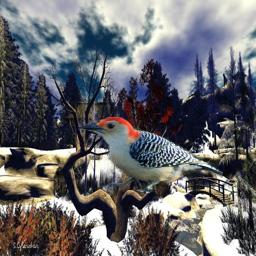Woodpecker: (78, 117, 223, 196)
